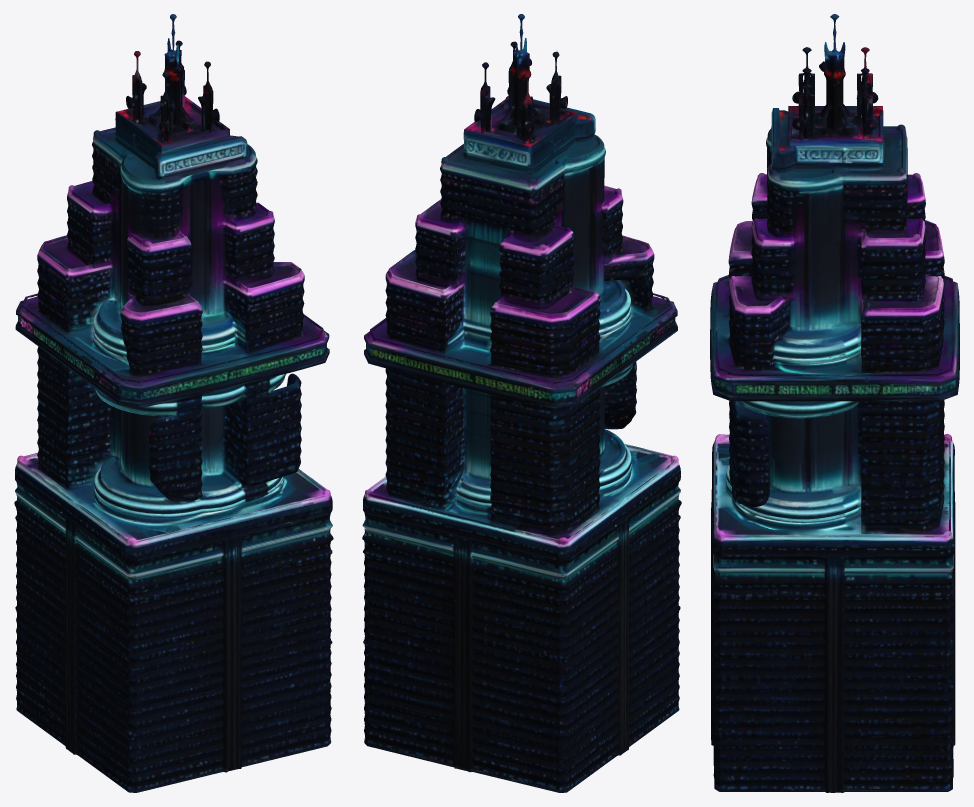
File: tower-c.glb
3 renders of one model, left to right at view 1: azimuth 30°, elevation 25°; view 2: azimuth 150°, elevation 25°; view 3: azimuth 270°, elevation 25°, orthographic. The views are drawn at different scales.
Parts seen in each view (by area): view 1: material; view 2: material; view 3: material.
Part boxes in pixels (bbox=[...]): material: bbox=[14, 14, 333, 792]; material: bbox=[362, 14, 681, 792]; material: bbox=[710, 14, 959, 792].
Bounding box in the file's own units: 0.3454 × 1.11 × 0.346.
Materials: 1 (1 with a texture image).
